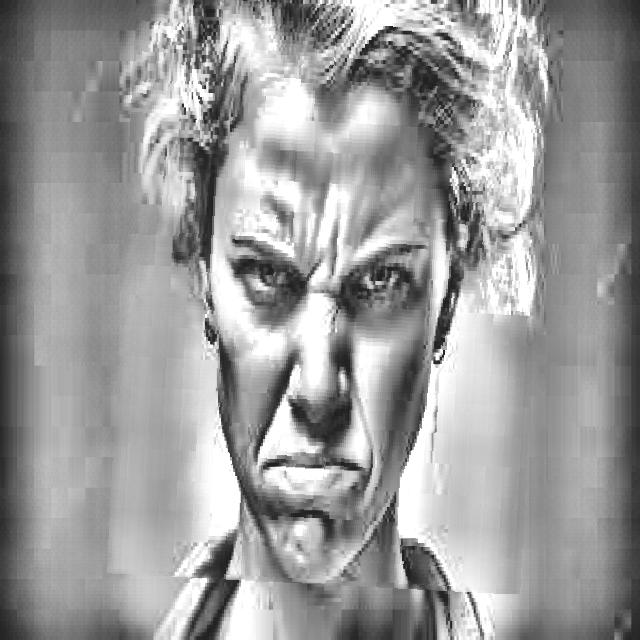angry: (115, 0, 543, 589)
